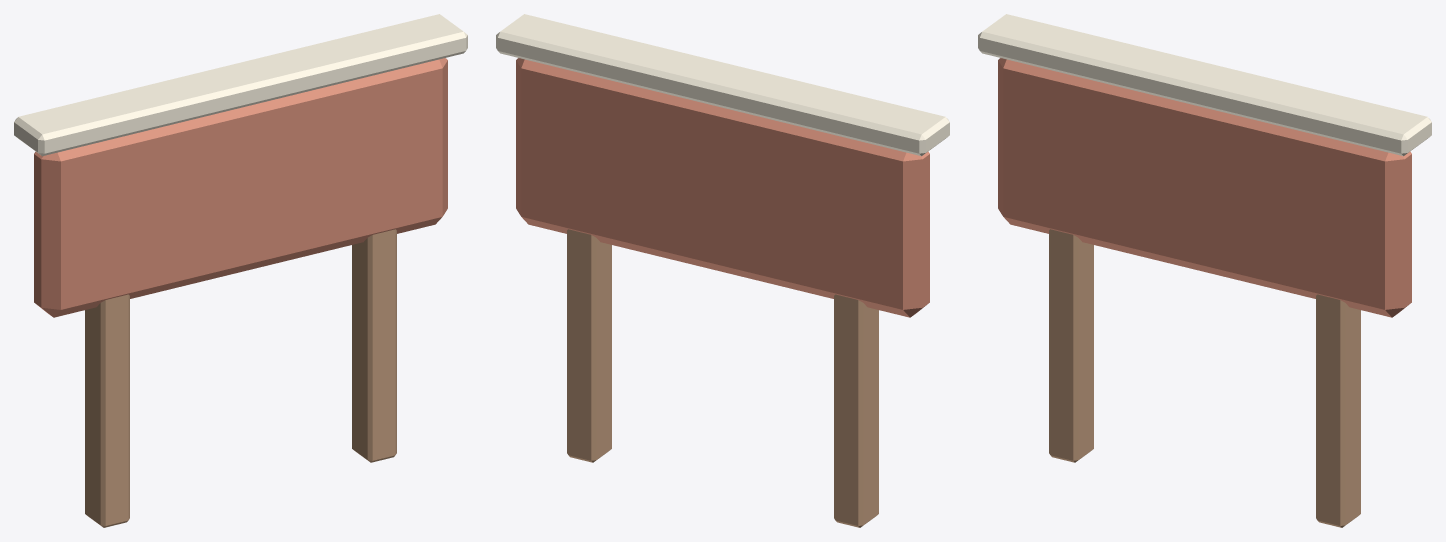
Rendered from sign.glb.
3 renders of one model, left to right at view 1: azimuth 30°, elevation 25°; view 2: azimuth 150°, elevation 25°; view 3: azimuth 330°, elevation 25°, orthographic.
Parts seen in each view (by area): view 1: sign; view 2: sign; view 3: sign.
Part boxes in pixels (bbox=[...]): sign: bbox=[14, 14, 467, 527]; sign: bbox=[496, 14, 949, 527]; sign: bbox=[978, 14, 1431, 527].
Size of the model in its own units: 2.06 by 1.89 by 0.24.
